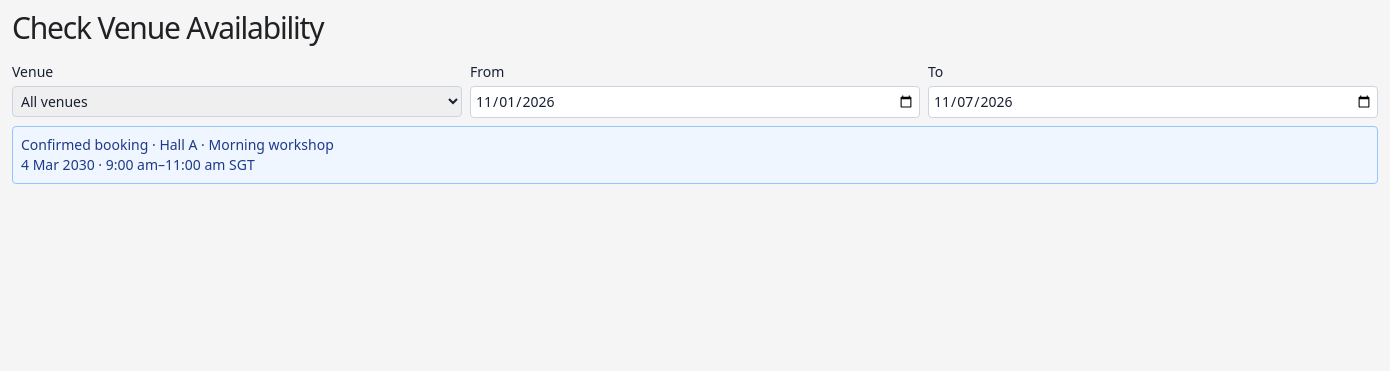
Scenario: SCRUM-77 AC3: without access to the event, the entry still shows
This screenshot has width=1390, height=371.
Step 1. Click the button "Confirmed booking" → (85,144), box x1=12 y1=126 x2=1378 y2=184
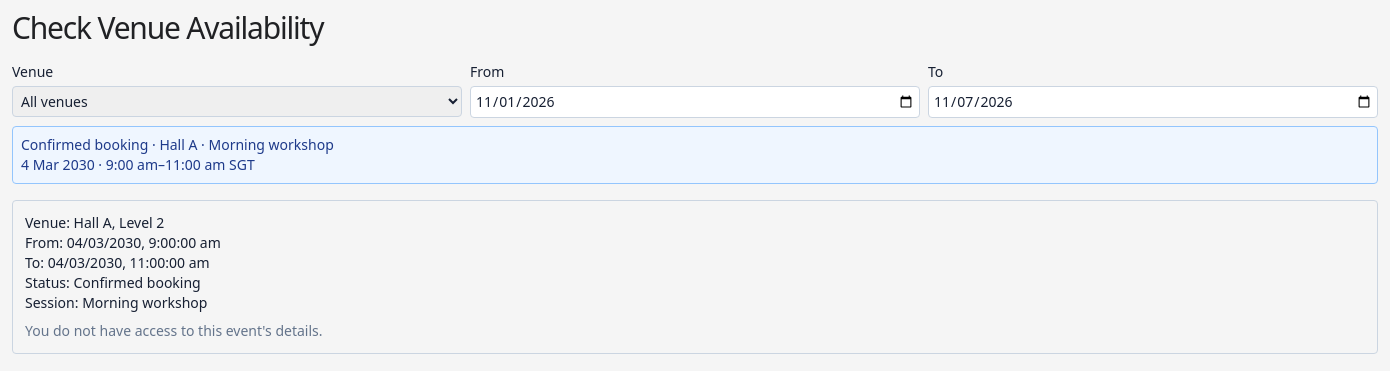
Expected: the text "You do not have access to this event's details." is shown, x1=25 y1=321 x2=322 y2=340
Expected: the text "Hall A, Level 2" is shown, x1=74 y1=213 x2=164 y2=232
